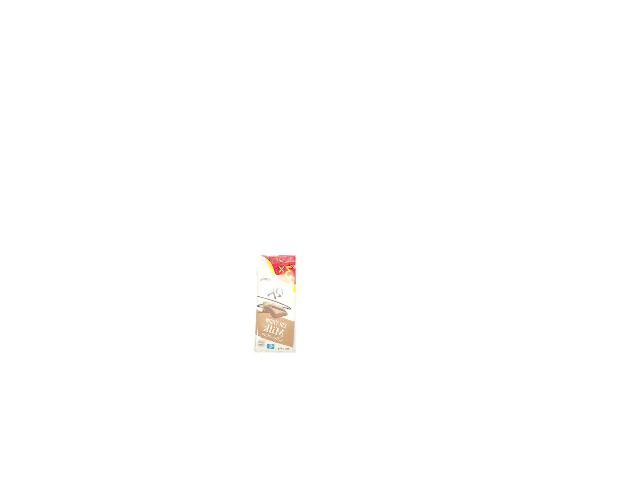chocolate: (252, 252, 299, 350)
